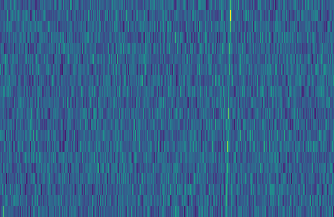signal: (222, 0, 236, 217)
